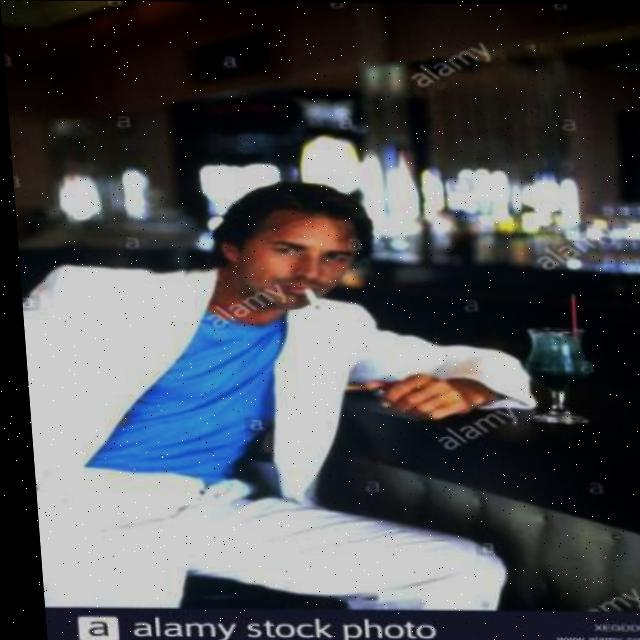cigarette: (299, 287, 316, 310)
